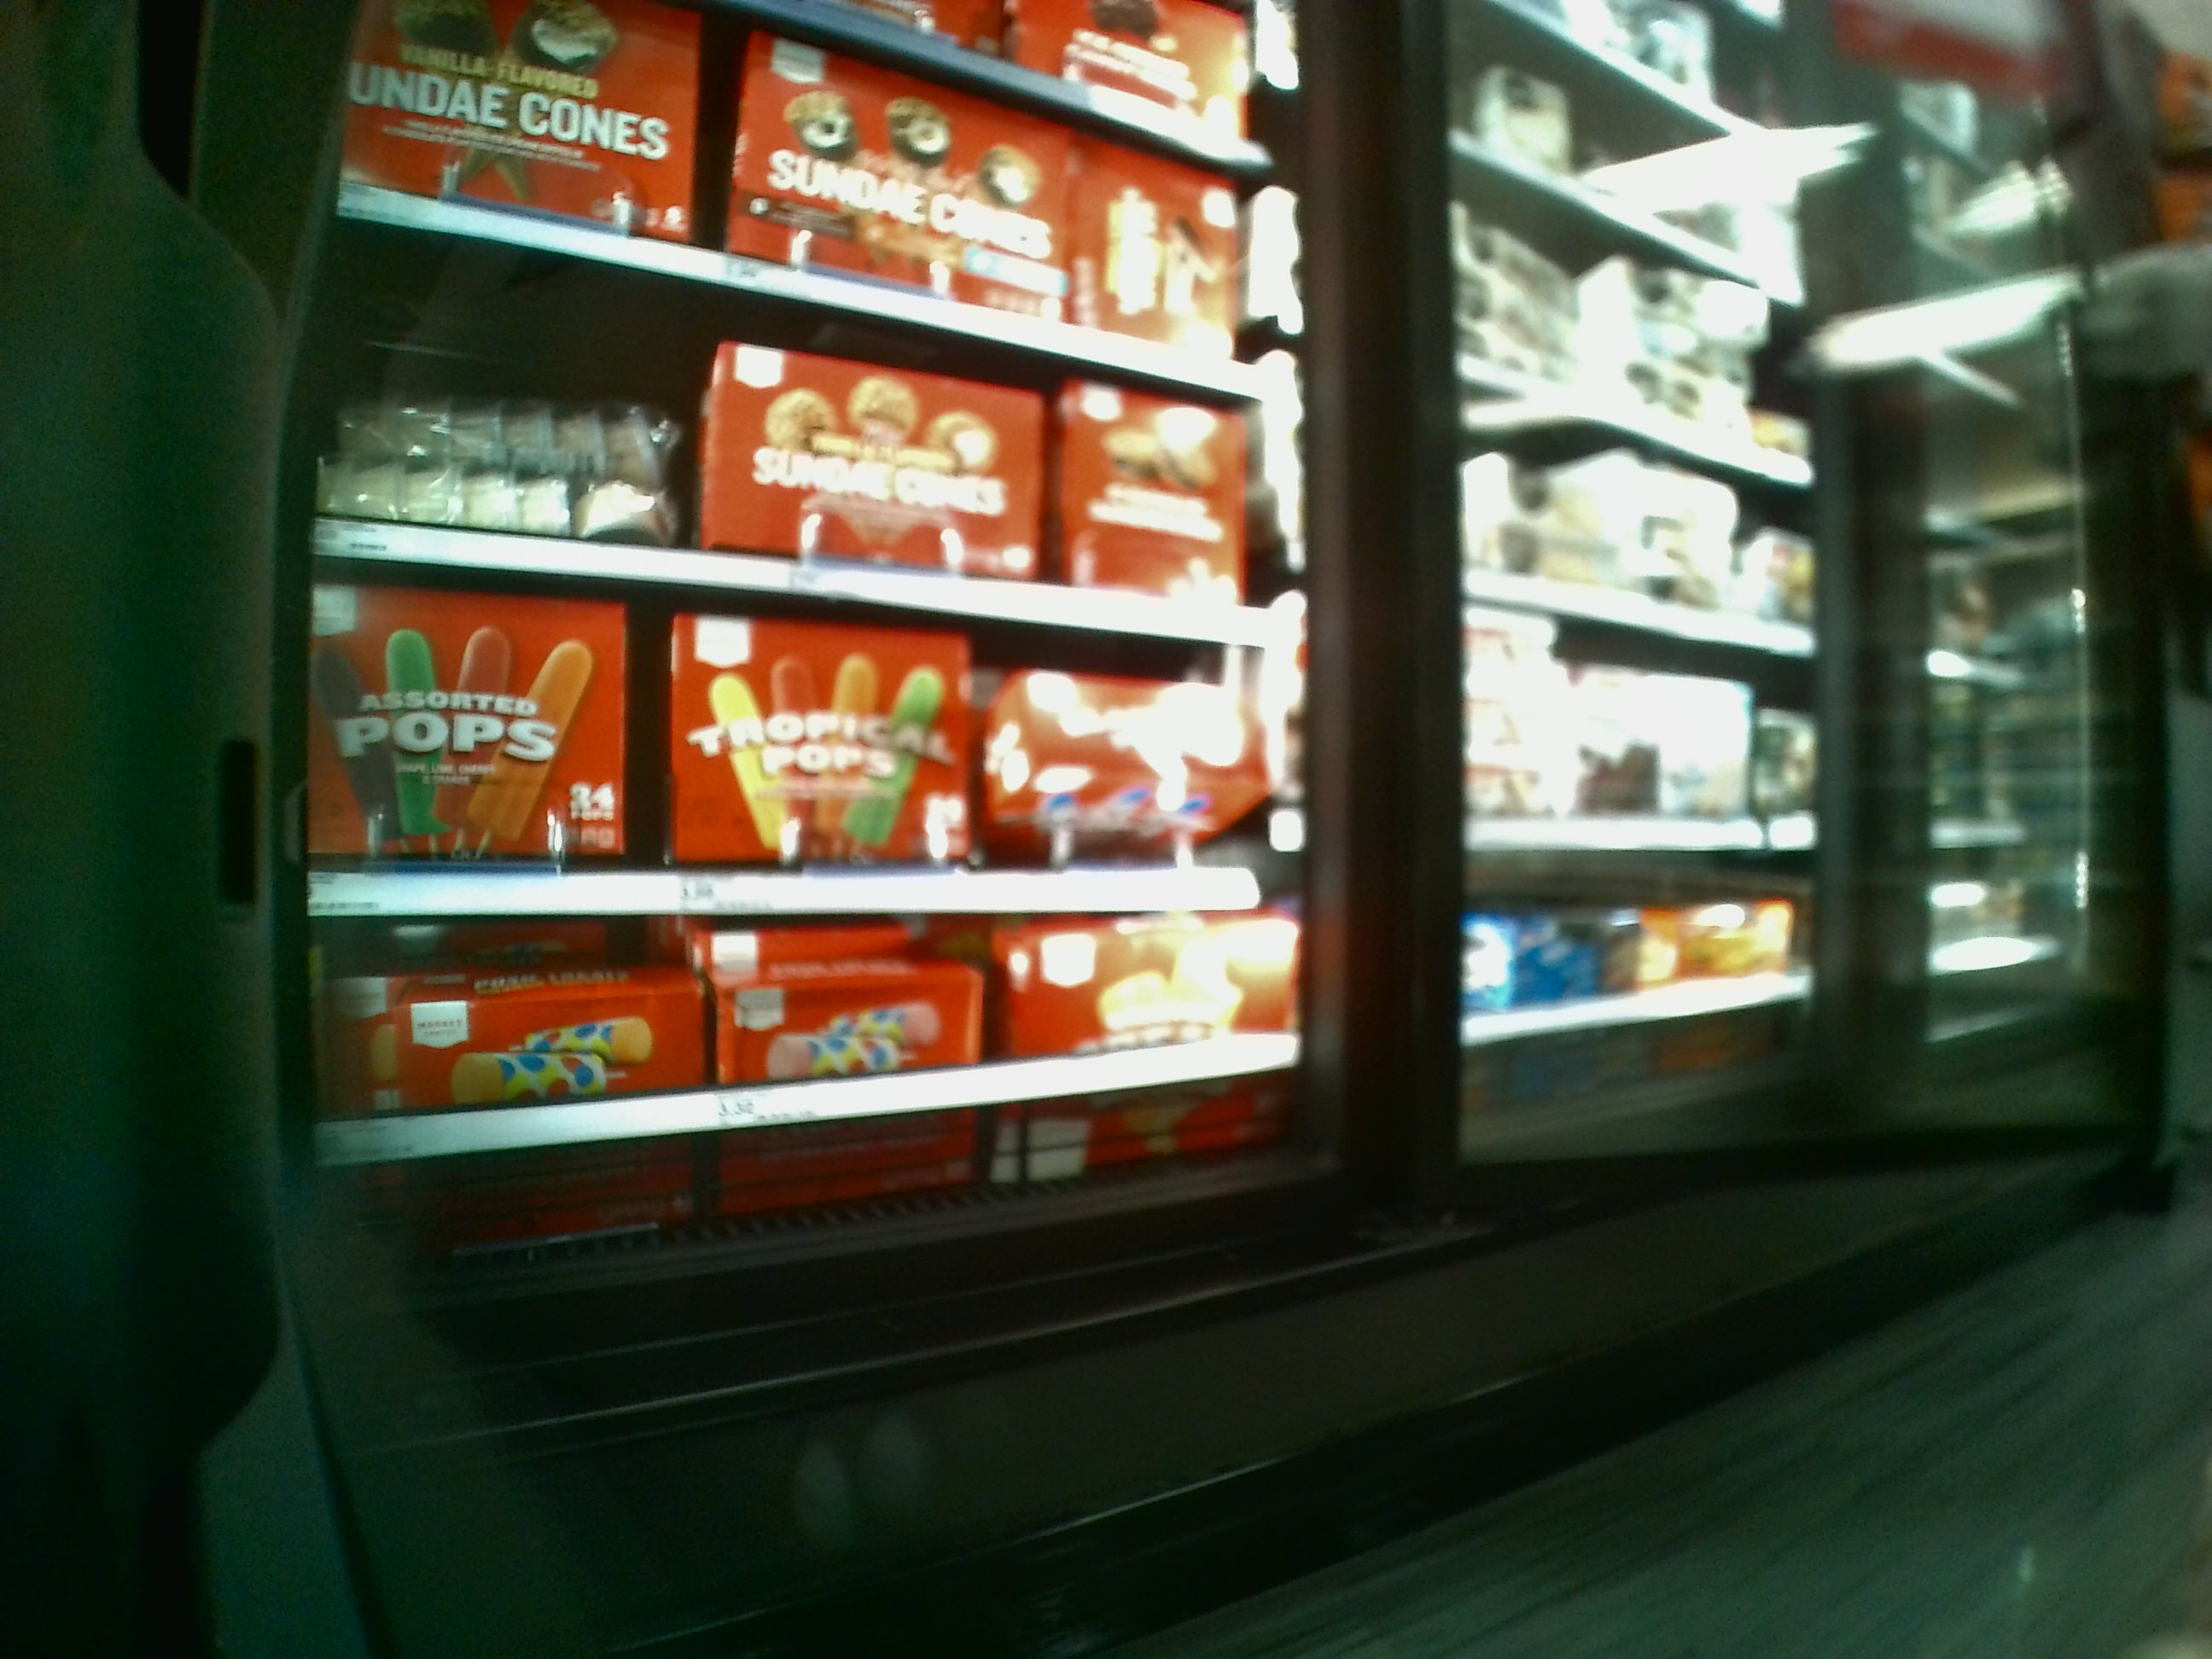shelf: (303, 582, 1296, 908), (312, 913, 1308, 1222), (301, 322, 1282, 605)
